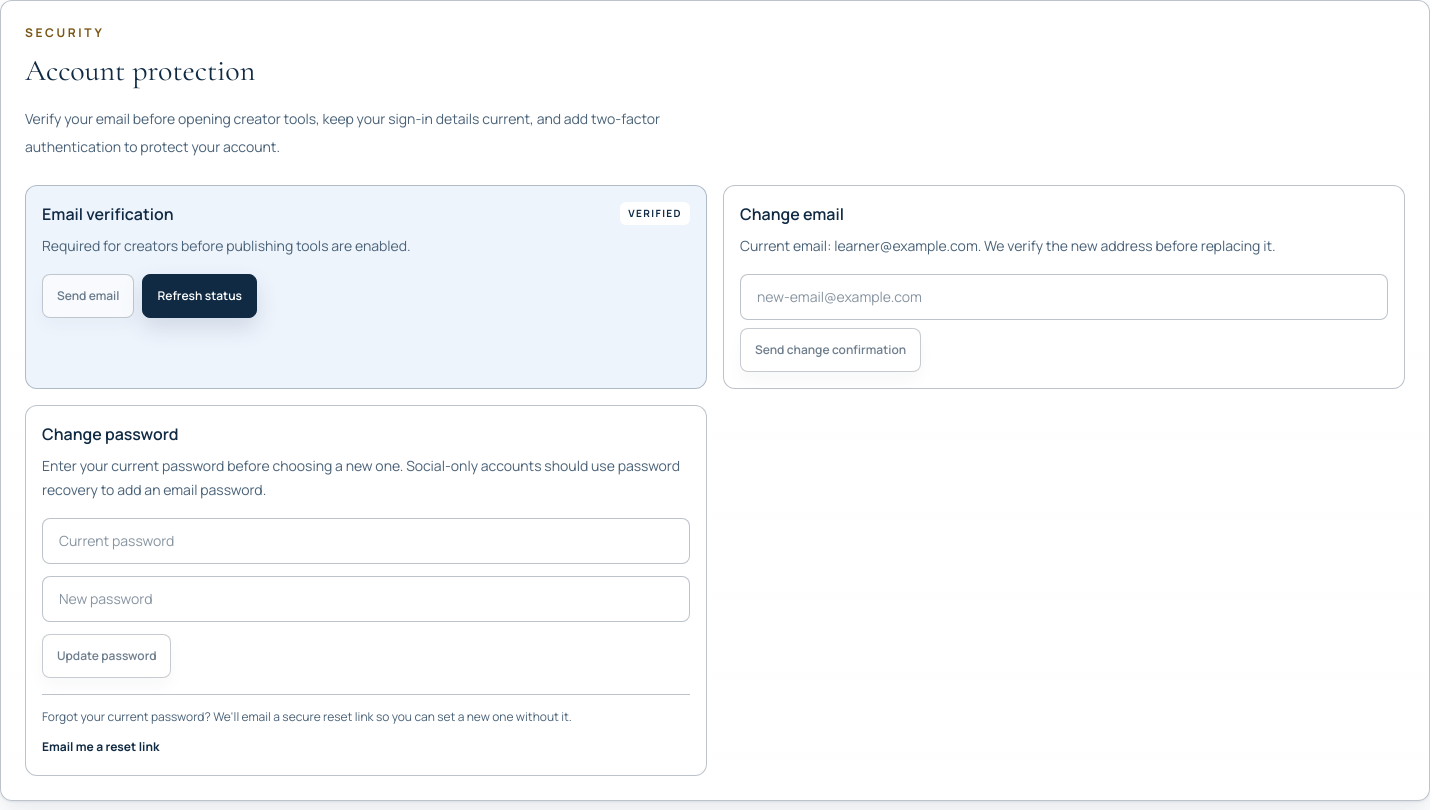
Test case: SecuritySettingsPanel with CAPTCHA protection on › sends the reset link with the captcha token too
Click the button "Email me a reset link" at (101, 747), box 42,735 -> 159,759
(page scrolled)
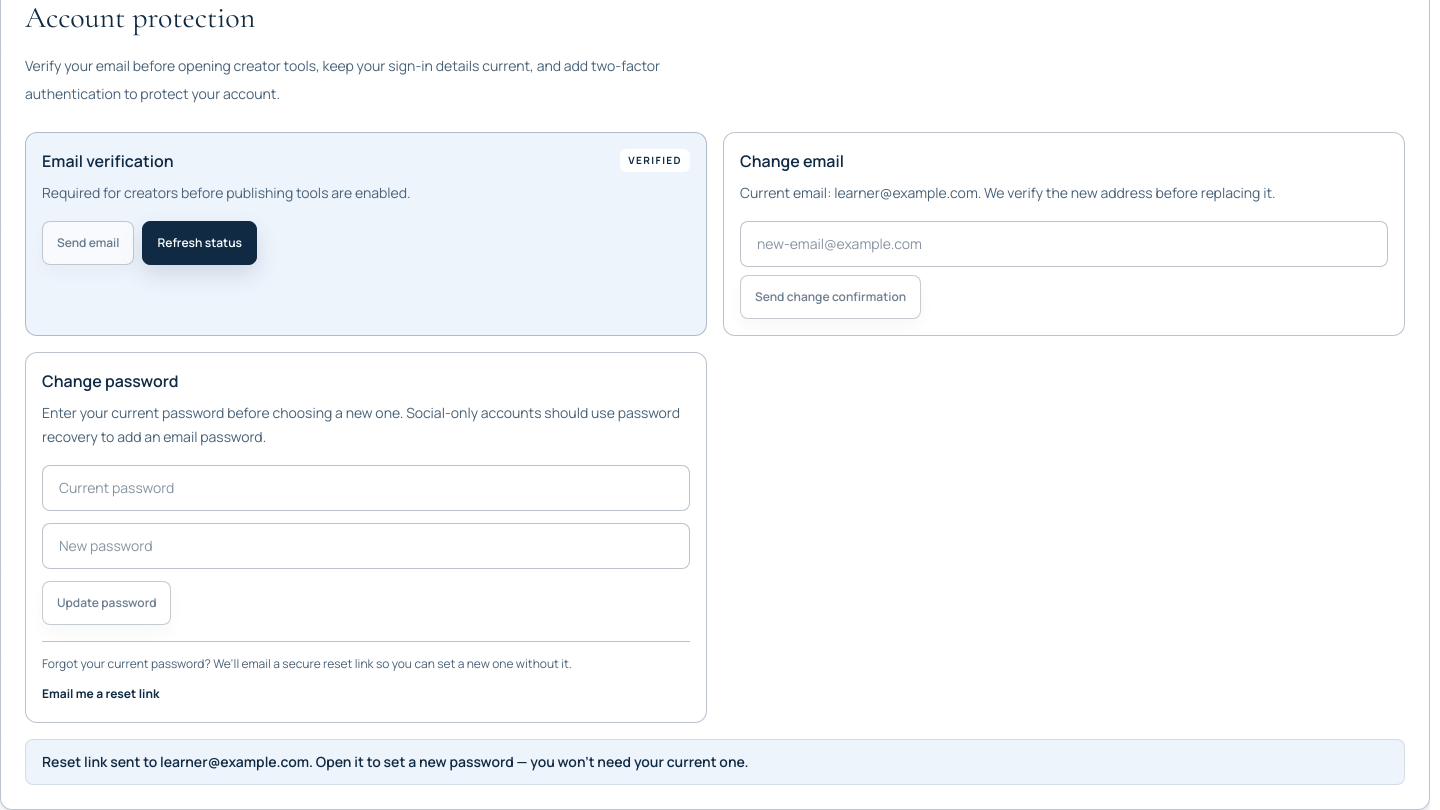
Expected: the message is shown, 25,739 -> 1405,785
